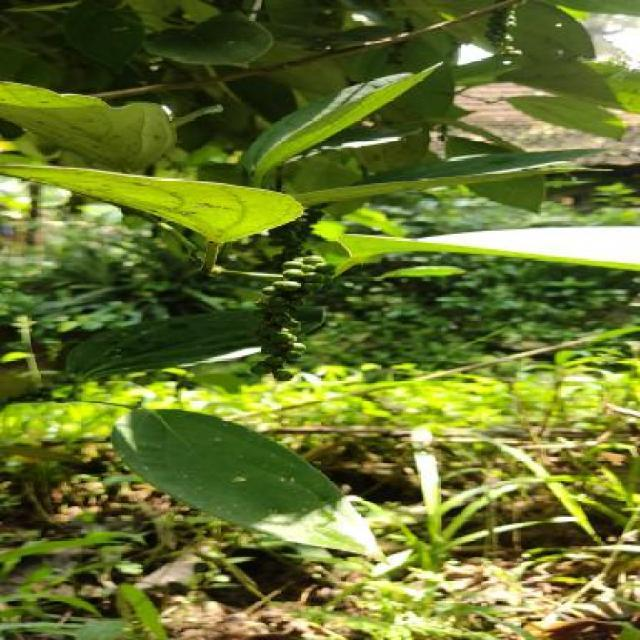UNRIPE: (248, 203, 331, 380), (486, 4, 522, 51)
